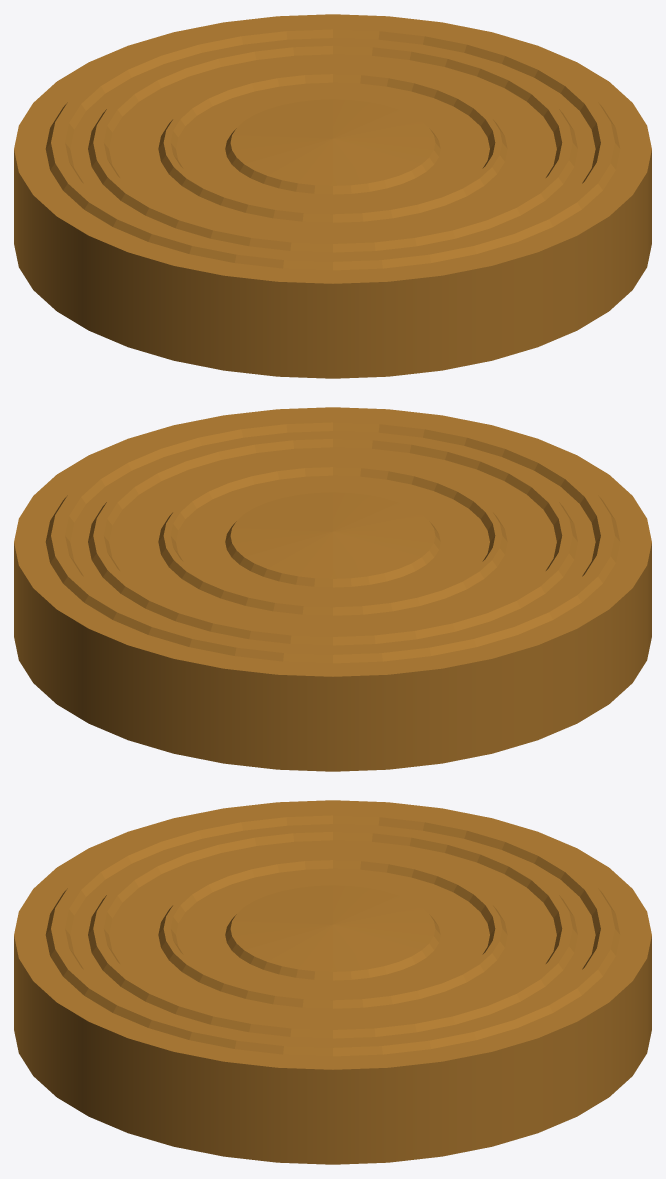
File: yellow.fbx
3 views of the same model, one above another, from view 1: azimuth 30°, elevation 25°; view 2: azimuth 150°, elevation 25°; view 3: azimuth 270°, elevation 25° (orthographic).
Parts seen in each view (by area): view 1: Cylinder003.001; view 2: Cylinder003.001; view 3: Cylinder003.001.
Boxes of the visible parts, bbox=[...] form: Cylinder003.001: bbox=[14, 14, 651, 378]; Cylinder003.001: bbox=[14, 407, 651, 771]; Cylinder003.001: bbox=[14, 800, 651, 1164].
Size of the model in its own units: 2.73 by 0.4969 by 2.73.
